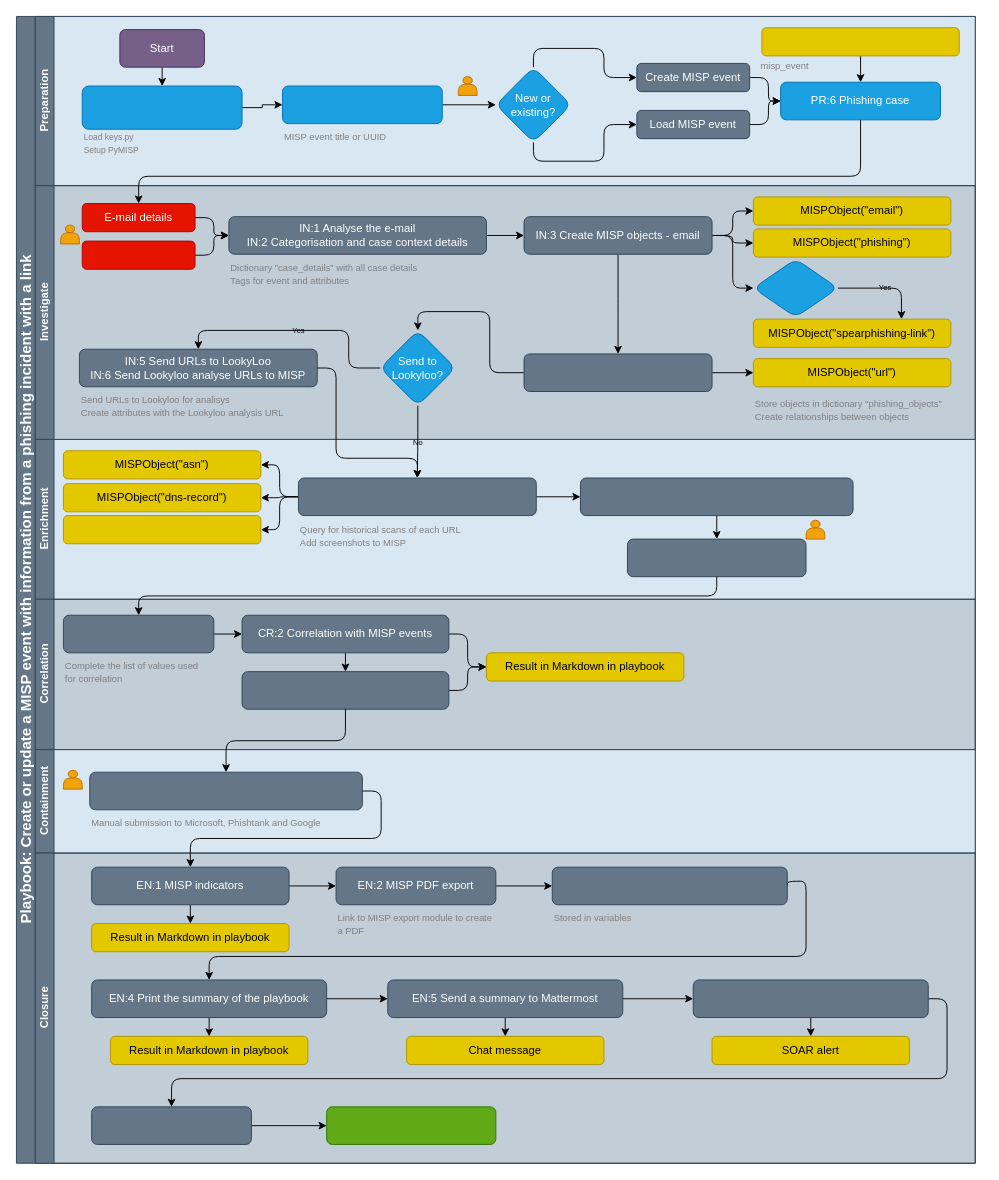
The diagram is 999 pixels wide and 1180 high, and some of its shapes have lost their labels. Here are the shapes that lost their labels. From the top down, the centre of each, then its label:
(x=860, y=41): Objects and definitions
(x=161, y=107): PR:1 Initialise environment PR:2 Load helper functions PR:3 Set helper variables
(x=362, y=104): PR:4 MISP event details PR:5 Setup MISP event link
(x=138, y=254): Embedded links
(x=795, y=287): Include spearphishing-link object
(x=617, y=372): IN:4 Create MISP objects- url
(x=417, y=496): EN:1 Enrich with information from URLscan
(x=716, y=496): EN:2 Add screenshots from URLscan to playbook
(x=162, y=529): Update MISPObject("phishing")
(x=716, y=557): ER:3 Event graphs
(x=138, y=633): CR:1 Correlation
(x=345, y=690): CR:3 Correlation with MISP feeds
(x=225, y=790): CN:1 Report phishing website to external providers
(x=669, y=885): EN:3 Create the summary of the playbook
(x=810, y=998): EN:6 Send an alert to TheHive
(x=171, y=1125): EN:7 Publish MISP event
(x=411, y=1125): EN:8 End of the playbook
